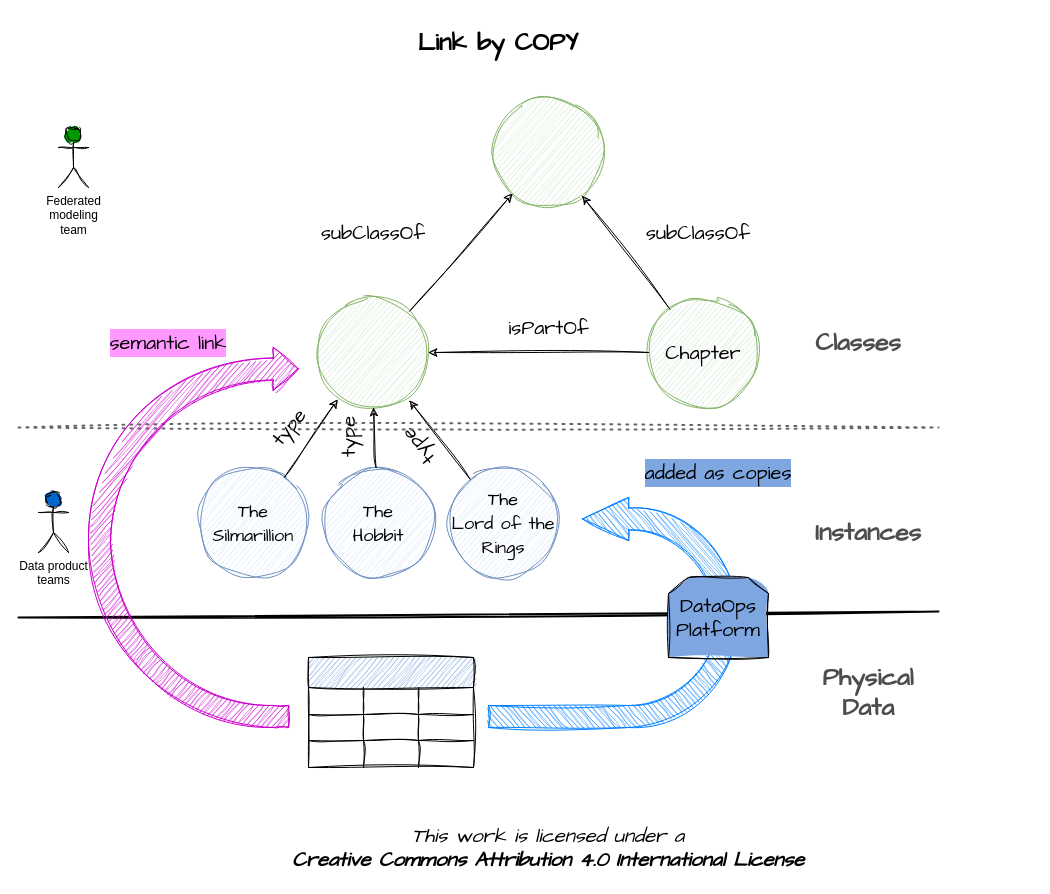
Image size: 1050x894. Some labels were removed from this diagram. The centre of each missing label's shape, as x and y in pixels:
Book: point 373,352
Books: point 391,712
Creative Work: point 548,152
